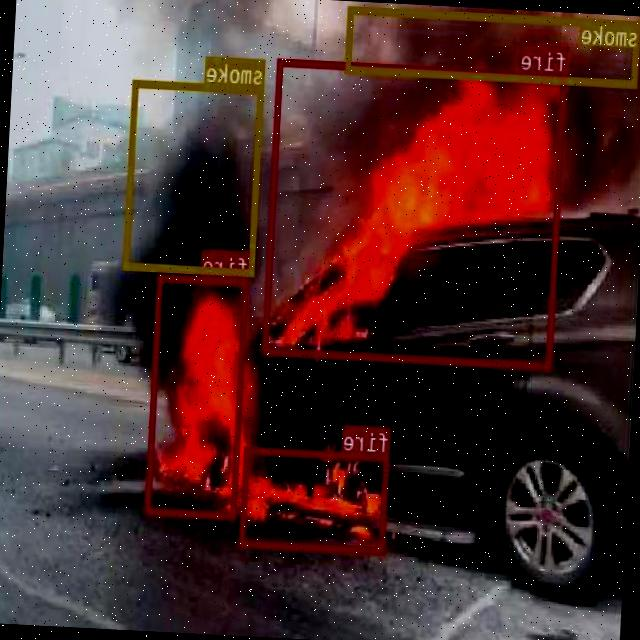fire: (264, 57, 568, 369), (147, 273, 250, 518), (241, 446, 391, 553)
smoke: (124, 79, 266, 276), (347, 6, 640, 86)
